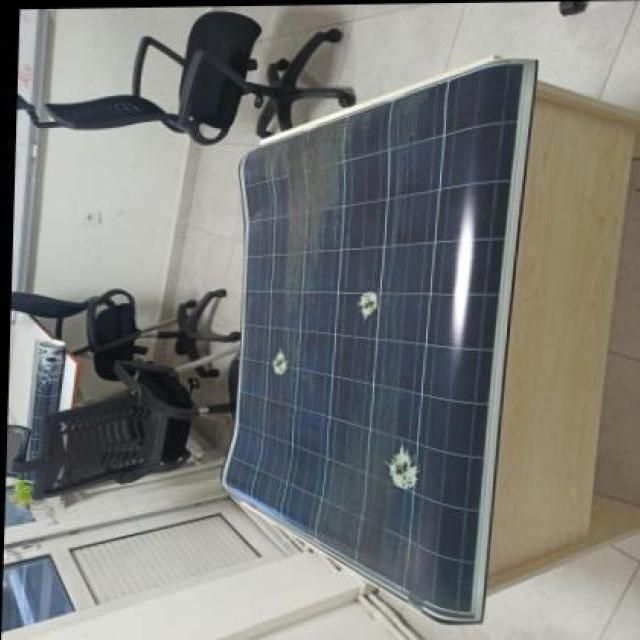soiled: (230, 55, 535, 625)
